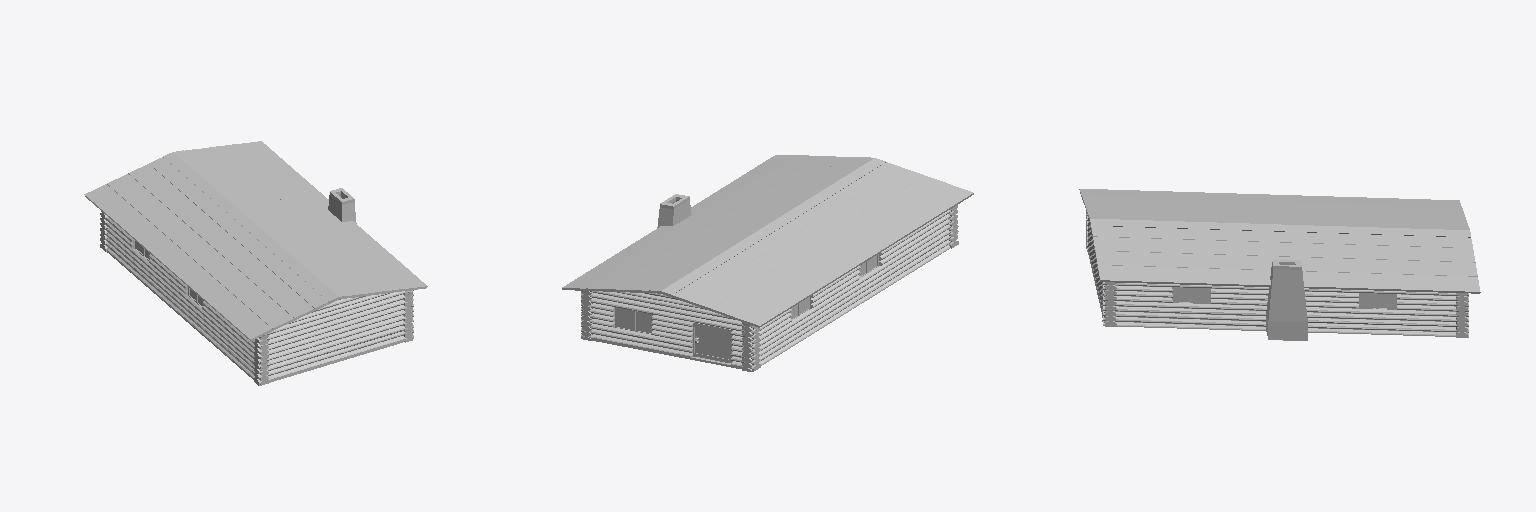
Rendered from house.obj.
3 renders of one model, left to right at view 1: azimuth 30°, elevation 25°; view 2: azimuth 150°, elevation 25°; view 3: azimuth 270°, elevation 25°, orthographic.
Parts seen in each view (by area): view 1: Cabin_default4; view 2: Cabin_default4; view 3: Cabin_default4.
Part boxes in pixels (x1,y1,x2,y2): Cabin_default4: (84,141,427,385); Cabin_default4: (562,155,973,371); Cabin_default4: (1079,189,1480,340).
Bounding box in the file's own units: 9.72 × 3.2 × 15.94.